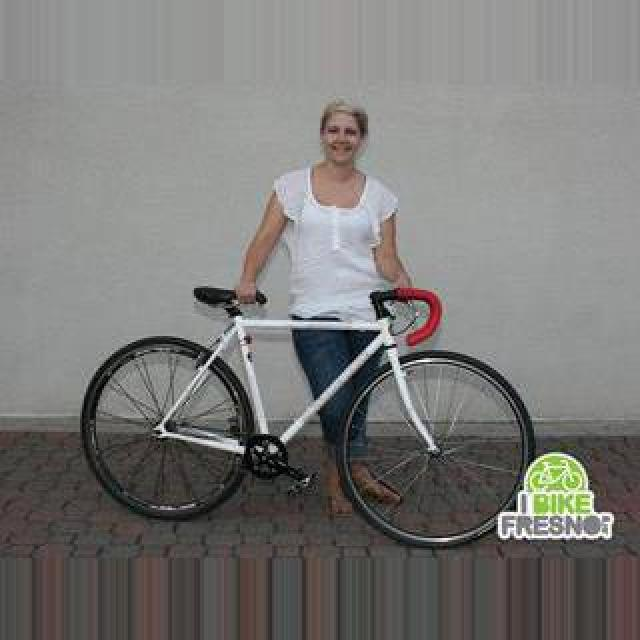MC-Bike: (228, 98, 420, 510)
Person: (82, 282, 532, 554)
